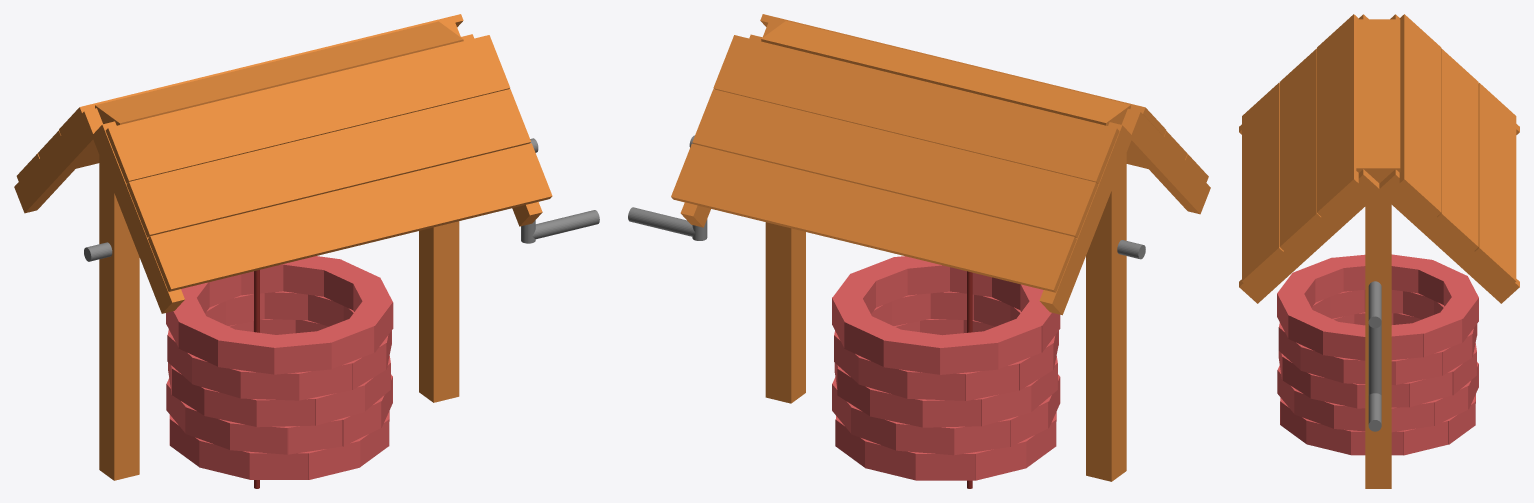
Rendered from Well.fbx.
The picture shows the model from 3 angles, left to right: view 1: azimuth 30°, elevation 25°; view 2: azimuth 150°, elevation 25°; view 3: azimuth 270°, elevation 25°; orthographic projection. The views are drawn at different scales.
Visible parts, largest first — view 1: Well; view 2: Well; view 3: Well.
Part boxes in pixels (<box>): Well: <box>14,14,599,488</box>; Well: <box>628,14,1210,488</box>; Well: <box>1239,14,1519,488</box>.
Bounding box in the file's own units: 398 × 306 × 214.
